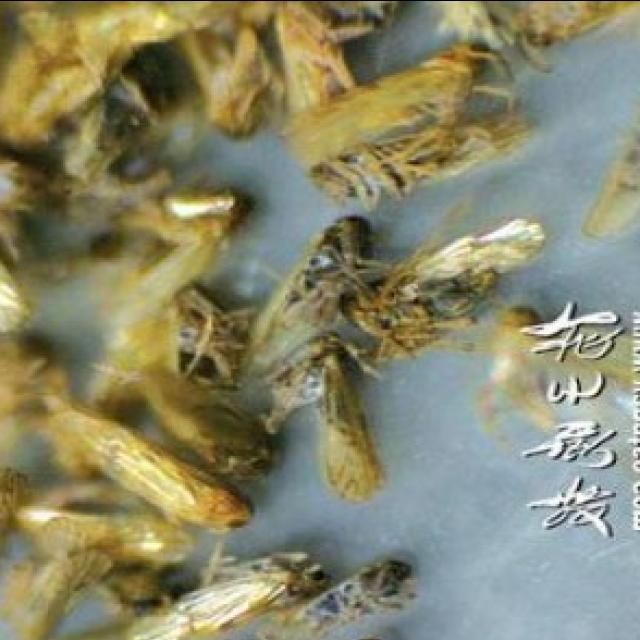brown plant hopper: (285, 44, 527, 205), (342, 218, 542, 364), (244, 218, 370, 427), (63, 403, 248, 529), (128, 551, 318, 640), (137, 361, 270, 479), (261, 557, 414, 640), (316, 353, 381, 496)
